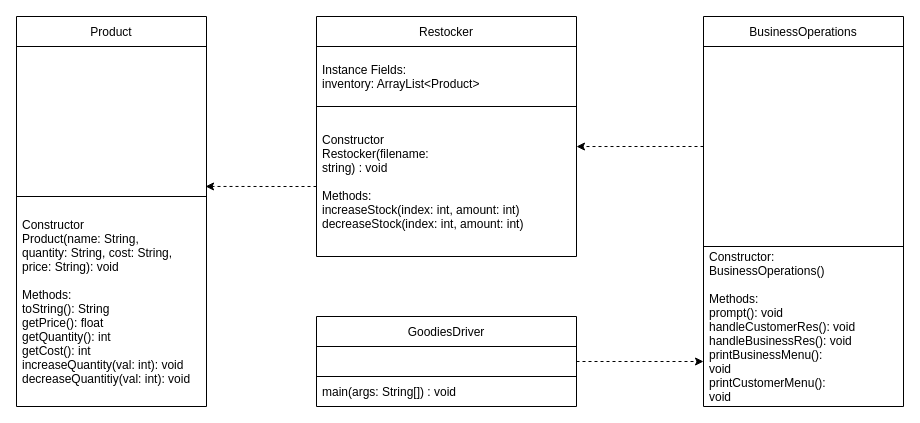
The diagram is 920 pixels wide and 423 high, and some of its shapes have lost their labels. The shapes that lost their labels are listed below. From the top down, each one's centre as x and y in pixels, then its label:
At (111,121): "Instance Fields: cost: int price: float quantity: int name: String".
At (803,146): "Instance Fields: restocker: Restocker scanner: Scanner".
At (446,361): "Instance fields:".
